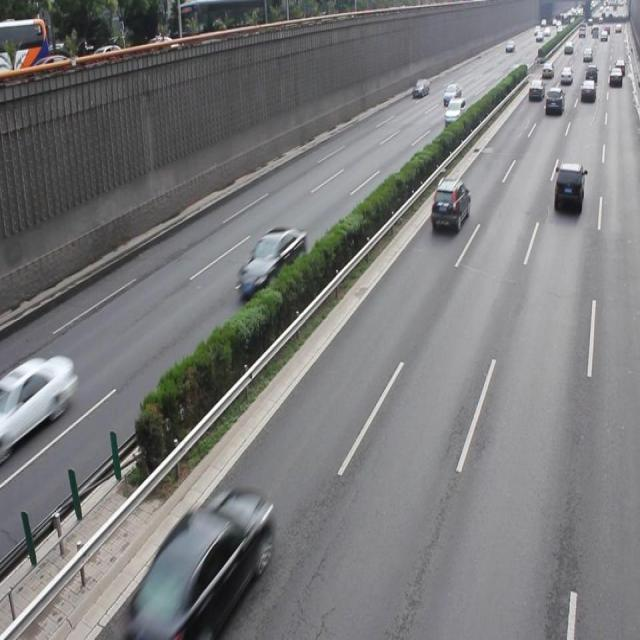car: (132, 487, 271, 640), (237, 226, 306, 296), (430, 177, 471, 232), (552, 160, 583, 215)
